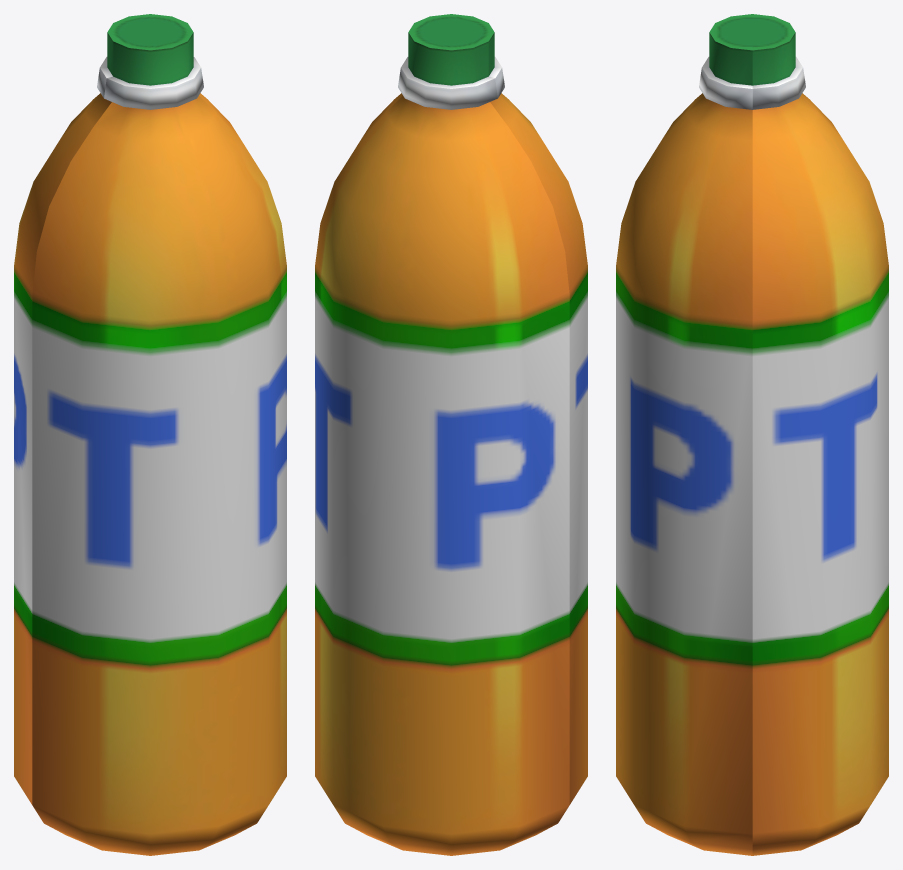
The model's file is TPDrinkGround.fbx.
3 renders of one model, left to right at view 1: azimuth 30°, elevation 25°; view 2: azimuth 150°, elevation 25°; view 3: azimuth 270°, elevation 25°, orthographic.
Visible parts, largest first — view 1: TP_Drink; view 2: TP_Drink; view 3: TP_Drink.
Part boxes in pixels (box(x1,y1,x2,y2)): TP_Drink: box(14, 14, 286, 855); TP_Drink: box(315, 14, 587, 855); TP_Drink: box(616, 14, 888, 855).
Size of the model in its own units: 0.037 by 0.117 by 0.037.
